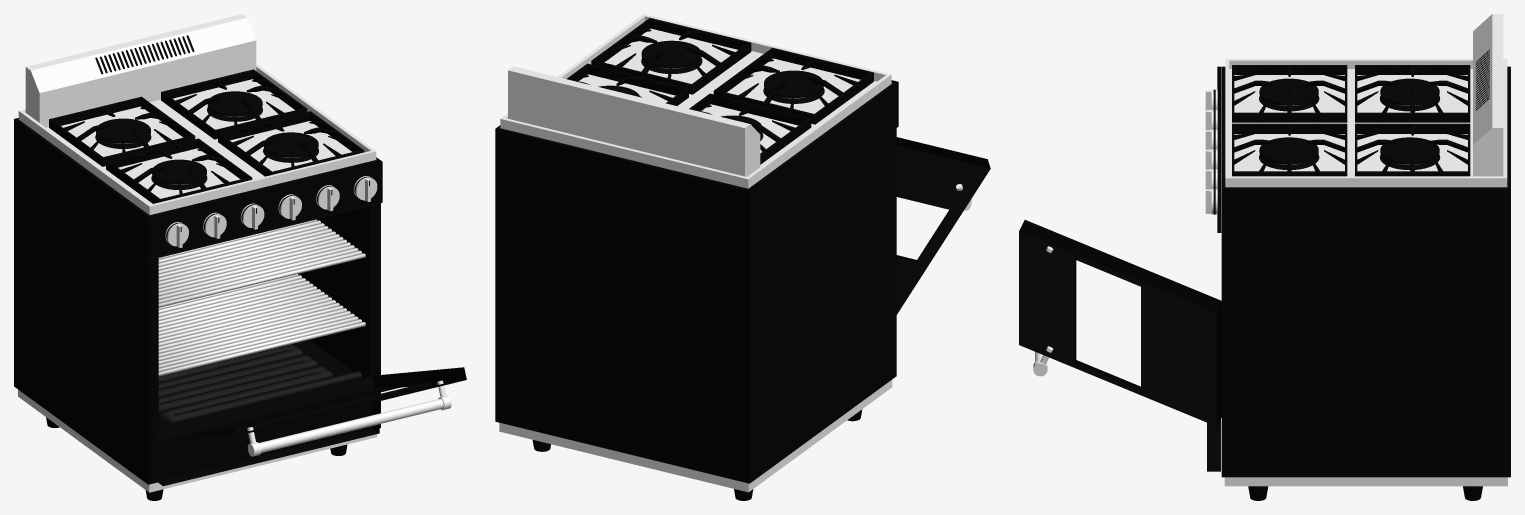
Rendered from stove2.glb.
The picture shows the model from 3 angles, left to right: view 1: azimuth 30°, elevation 25°; view 2: azimuth 150°, elevation 25°; view 3: azimuth 270°, elevation 25°; orthographic projection. The views are drawn at different scales.
Visible parts, largest first — view 1: node_id31, node_id35, node_id43; view 2: node_id31, node_id35; view 3: node_id31, node_id35.
Part boxes in pixels (x1=…): node_id31: x1=14, y1=35, x2=466, y2=500; node_id35: x1=18, y1=14, x2=451, y2=492; node_id43: x1=158, y1=344, x2=361, y2=423; node_id31: x1=495, y1=18, x2=990, y2=500; node_id35: x1=499, y1=14, x2=971, y2=492; node_id31: x1=1019, y1=49, x2=1510, y2=500; node_id35: x1=1033, y1=14, x2=1507, y2=486.
Size of the model in its own units: 0.1104 by 0.1594 by 0.1876.
4 materials, 4 textured.
